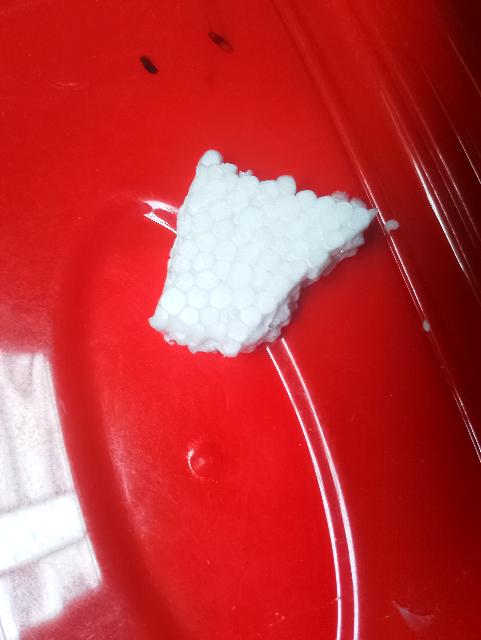cocksheet: (125, 145, 378, 396)
